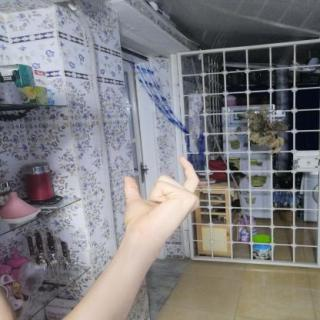NOON: (114, 153, 209, 245)
